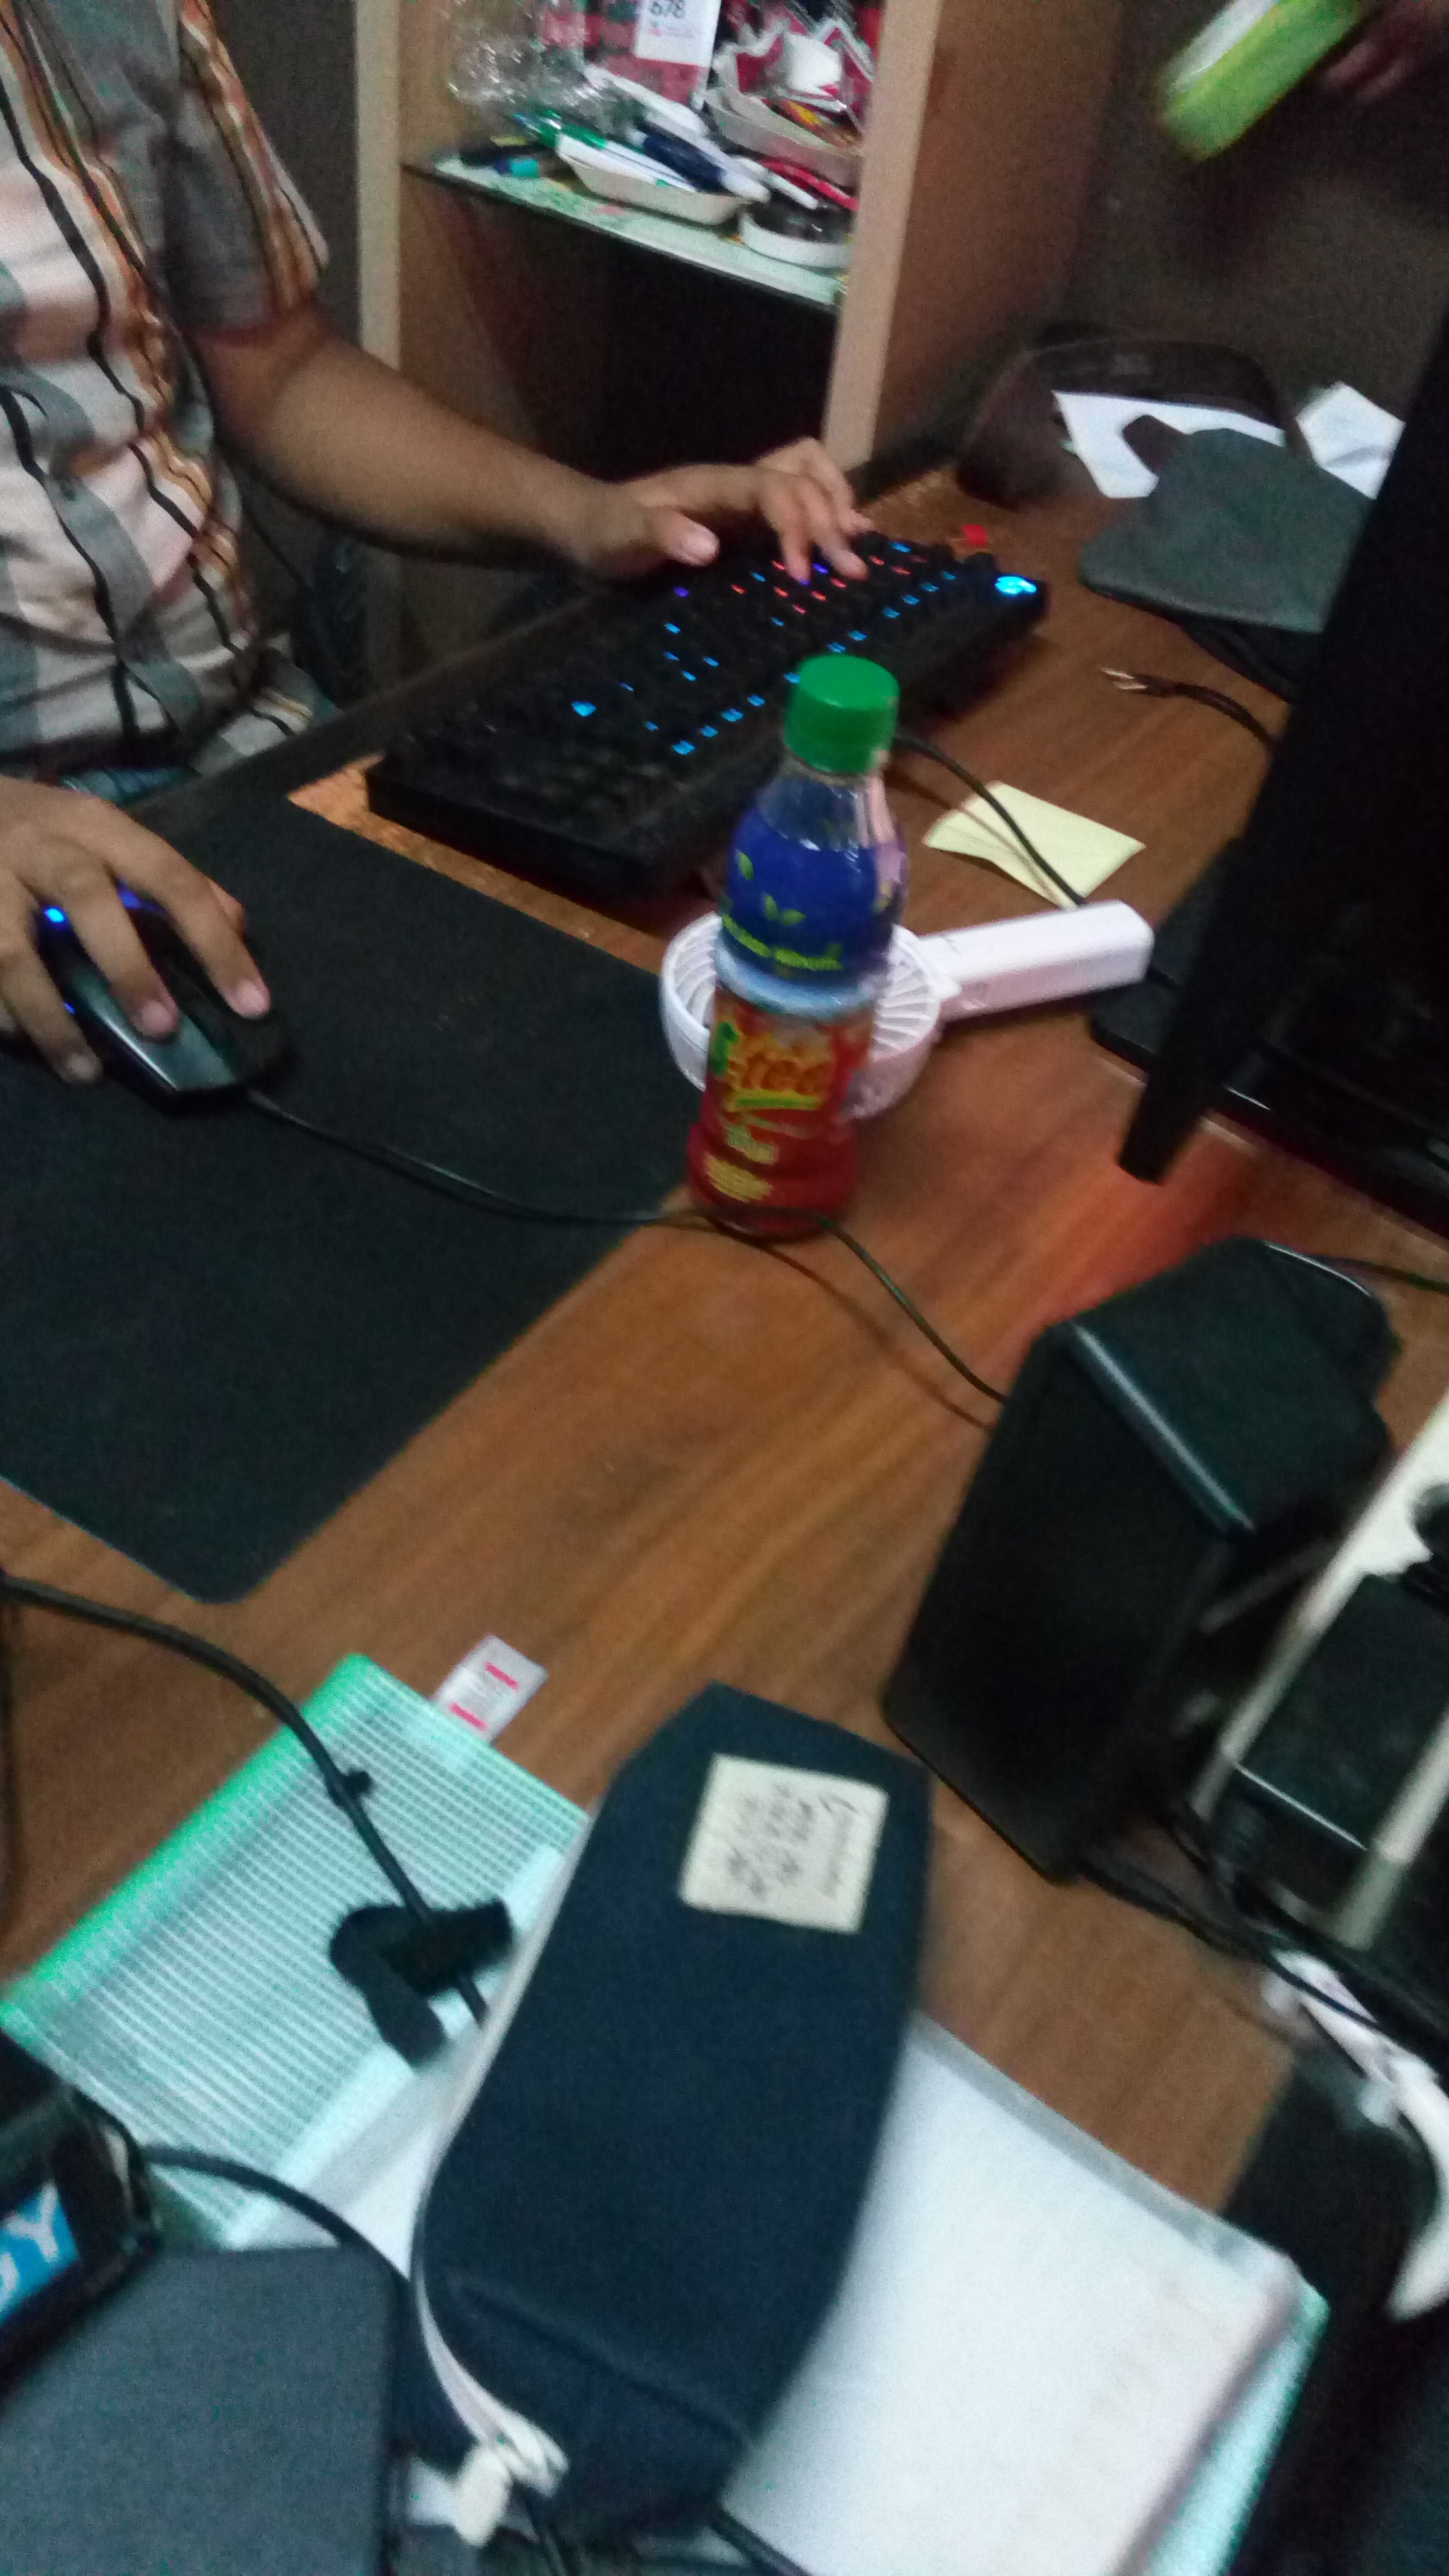botol: (694, 653, 902, 1228), (727, 653, 902, 1228)
